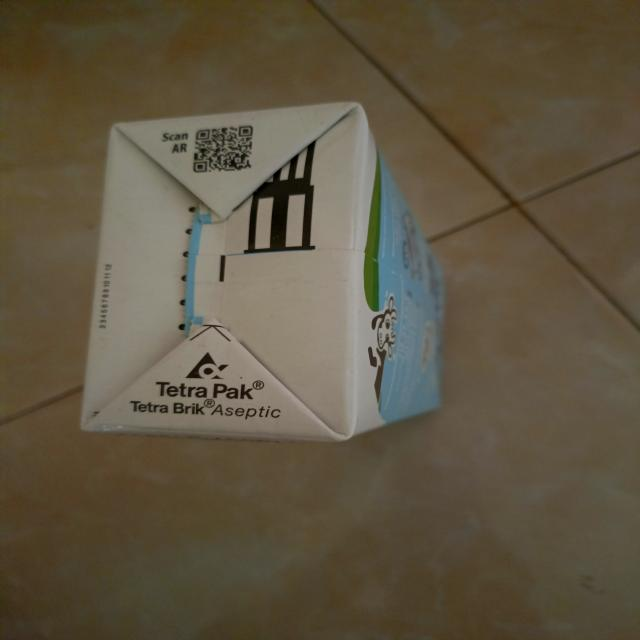ultramilk-full-cream: (78, 100, 442, 447)
